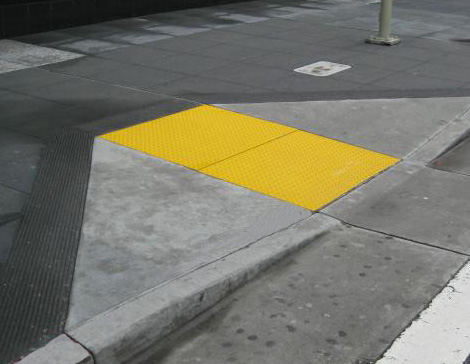ramp: (44, 107, 452, 276)
